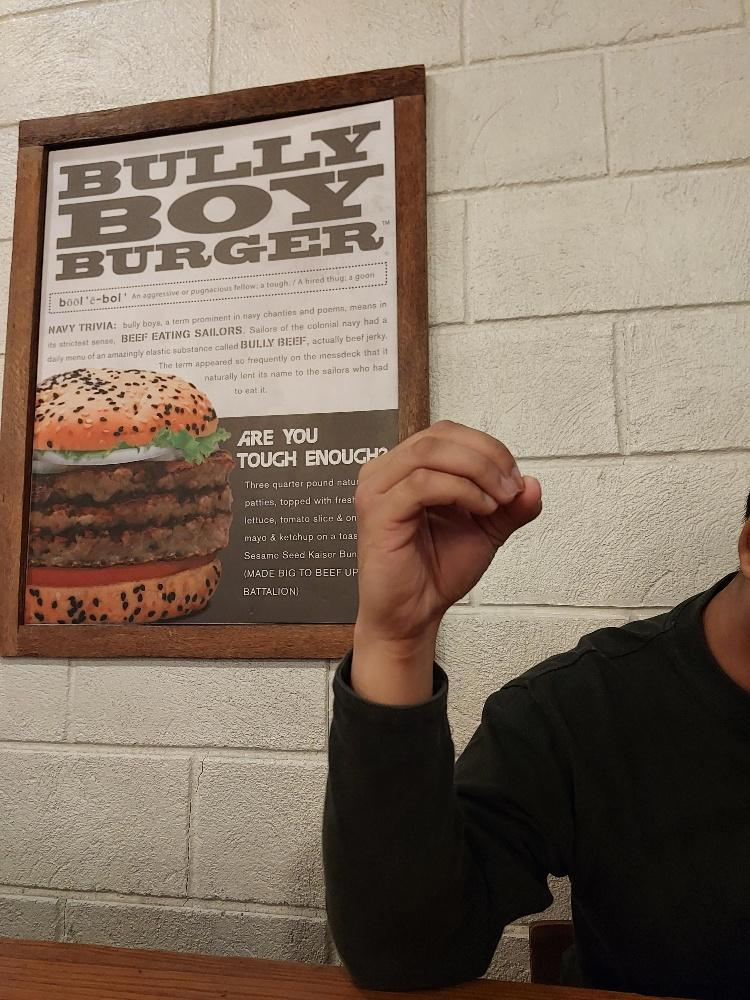o: (349, 414, 548, 643)
